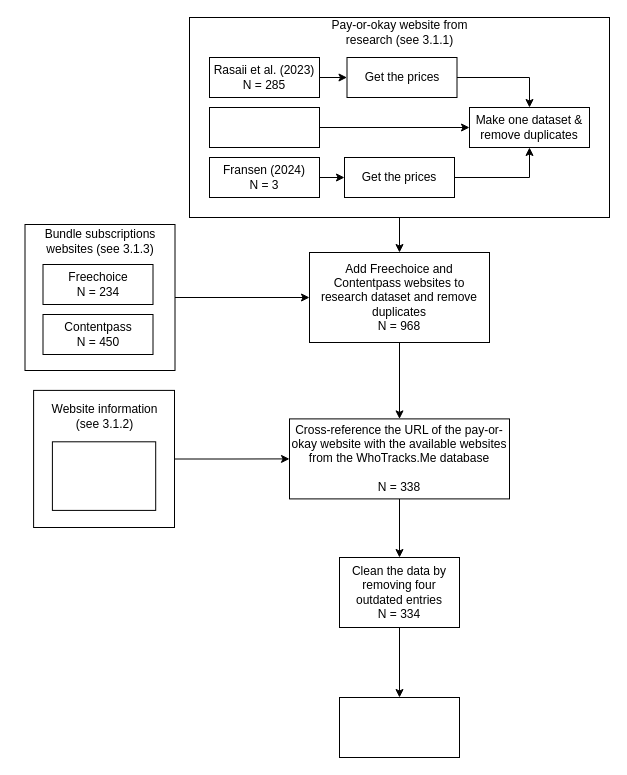
The diagram is 627 pixels wide and 775 high, and some of its shapes have lost their labels. Here are the shapes that lost their labels. From the top down, the centre of each, then its label:
At pixel 264 127: "Morel et al. (2023) N = 431".
At pixel 103 475: "WhoTracks.Me websites database N = 10.000 (for each region)".
At pixel 399 727: "Final dataset".
